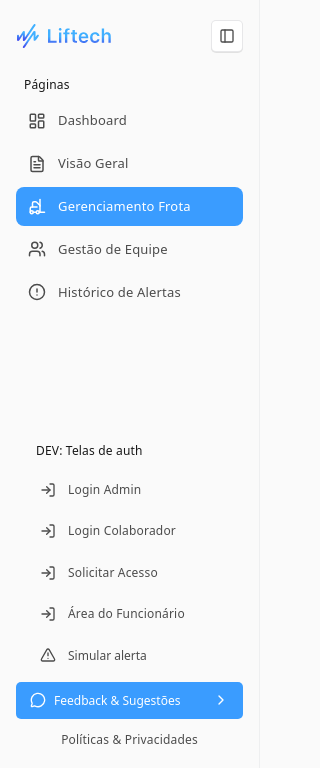
Sidebar component › keeps the active link highlighted, icon-only, while collapsed
This screenshot has width=320, height=768.
Click the button named "colapsar menu" at (227, 36), box [211,20,243,52]
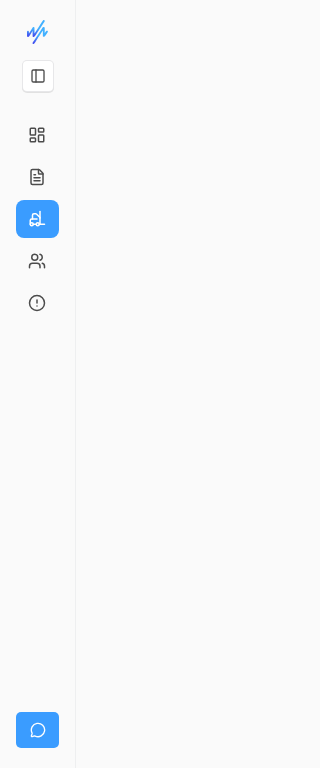
Now the text "Gerenciamento Frota" is gone
